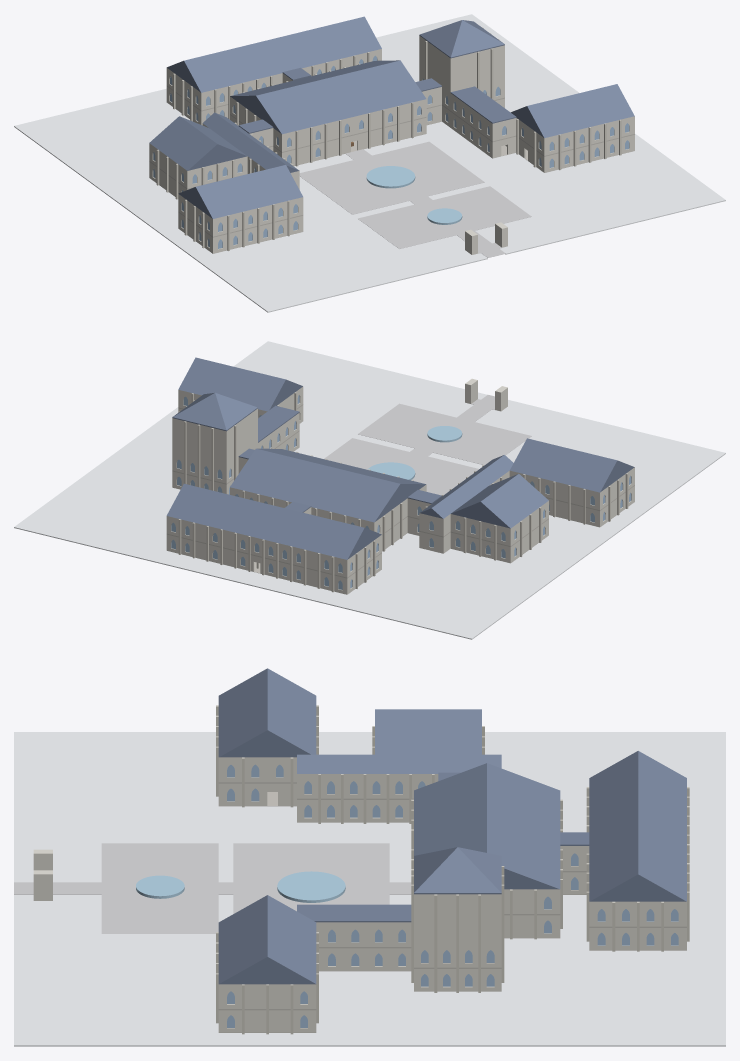
The model's file is lahudi-academy.glb.
3 renders of one model, top to bottom at view 1: azimuth 30°, elevation 25°; view 2: azimuth 150°, elevation 25°; view 3: azimuth 270°, elevation 25°, orthographic. The views are drawn at different scales.
Visible parts, largest first — view 1: TERRAIN_SNOW_G0, L04_MAIN_ROOF_GABLE, L08_LIBRARY_ROOF_GABLE, L03_COURTYARD_PAVING, L02_FORECOURT_PAVING, L06_WEST_A_ROOF_GABLE, L06_EAST_C_ROOF_GABLE, L05_ANNEX_ROOF_GABLE, L04_MAIN_2F_CORE_WALL_S, L07_STAIR_TOWER_2F_CORE_WALL_S, L04_MAIN_1F_CORE_WALL_S, L07_STAIR_TOWER_ROOF_SPIRE_PROXY_PENDING (+20 smaller); view 2: TERRAIN_SNOW_G0, L04_MAIN_ROOF_GABLE, L08_LIBRARY_ROOF_GABLE, L02_FORECOURT_PAVING, L06_WEST_A_ROOF_GABLE, L06_EAST_C_ROOF_GABLE, L03_COURTYARD_PAVING, L05_ANNEX_ROOF_GABLE, L08_LIBRARY_2F_CORE_WALL_N, L07_STAIR_TOWER_2F_CORE_WALL_N, L08_LIBRARY_1F_CORE_WALL_N, L05_CLOISTER_ROOF_GABLE (+17 smaller); view 3: TERRAIN_SNOW_G0, L08_LIBRARY_ROOF_GABLE, L04_MAIN_ROOF_GABLE, L02_FORECOURT_PAVING, L03_COURTYARD_PAVING, L06_EAST_C_ROOF_GABLE, L06_WEST_A_ROOF_GABLE, L07_STAIR_TOWER_2F_CORE_WALL_E, L05_ANNEX_ROOF_GABLE, L05_CLOISTER_ROOF_GABLE, L07_STAIR_TOWER_ROOF_SPIRE_PROXY_PENDING, L05_CLOISTER_2F_CORE_WALL_E (+23 smaller).
Boxes of the visible parts, left/top/right/bottom form: TERRAIN_SNOW_G0: left=14, top=14, right=725, bottom=312; L04_MAIN_ROOF_GABLE: left=230, top=60, right=426, bottom=134; L08_LIBRARY_ROOF_GABLE: left=167, top=16, right=381, bottom=92; L03_COURTYARD_PAVING: left=299, top=141, right=484, bottom=214; L02_FORECOURT_PAVING: left=358, top=186, right=531, bottom=248; L06_WEST_A_ROOF_GABLE: left=178, top=165, right=302, bottom=218; L06_EAST_C_ROOF_GABLE: left=511, top=84, right=634, bottom=137; L05_ANNEX_ROOF_GABLE: left=149, top=116, right=247, bottom=170; L04_MAIN_2F_CORE_WALL_S: left=281, top=99, right=426, bottom=151; L07_STAIR_TOWER_2F_CORE_WALL_S: left=450, top=45, right=504, bottom=110; L04_MAIN_1F_CORE_WALL_S: left=281, top=117, right=426, bottom=165; L07_STAIR_TOWER_ROOF_SPIRE_PROXY_PENDING: left=420, top=20, right=504, bottom=57; TERRAIN_SNOW_G0: left=14, top=341, right=725, bottom=639; L04_MAIN_ROOF_GABLE: left=230, top=448, right=425, bottom=522; L08_LIBRARY_ROOF_GABLE: left=166, top=483, right=381, bottom=559; L02_FORECOURT_PAVING: left=358, top=403, right=531, bottom=464; L06_WEST_A_ROOF_GABLE: left=510, top=438, right=634, bottom=492; L06_EAST_C_ROOF_GABLE: left=178, top=357, right=302, bottom=411; L03_COURTYARD_PAVING: left=324, top=438, right=478, bottom=495; L05_ANNEX_ROOF_GABLE: left=451, top=474, right=548, bottom=528; L08_LIBRARY_2F_CORE_WALL_N: left=166, top=516, right=347, bottom=577; L07_STAIR_TOWER_2F_CORE_WALL_N: left=172, top=418, right=227, bottom=483; L08_LIBRARY_1F_CORE_WALL_N: left=166, top=534, right=347, bottom=594; L05_CLOISTER_ROOF_GABLE: left=420, top=455, right=513, bottom=518; TERRAIN_SNOW_G0: left=14, top=732, right=725, bottom=1046; L08_LIBRARY_ROOF_GABLE: left=589, top=751, right=686, bottom=901; L04_MAIN_ROOF_GABLE: left=414, top=763, right=560, bottom=889; L02_FORECOURT_PAVING: left=101, top=843, right=218, bottom=933; L03_COURTYARD_PAVING: left=233, top=843, right=389, bottom=913; L06_EAST_C_ROOF_GABLE: left=218, top=895, right=316, bottom=984; L06_WEST_A_ROOF_GABLE: left=218, top=668, right=316, bottom=757; L07_STAIR_TOWER_2F_CORE_WALL_E: left=416, top=894, right=499, bottom=967; L05_ANNEX_ROOF_GABLE: left=375, top=709, right=481, bottom=754; L05_CLOISTER_ROOF_GABLE: left=297, top=754, right=501, bottom=773; L07_STAIR_TOWER_ROOF_SPIRE_PROXY_PENDING: left=414, top=847, right=501, bottom=892; L05_CLOISTER_2F_CORE_WALL_E: left=299, top=774, right=438, bottom=798.
Bounding box in the file's own units: 152 × 28.85 × 146.
